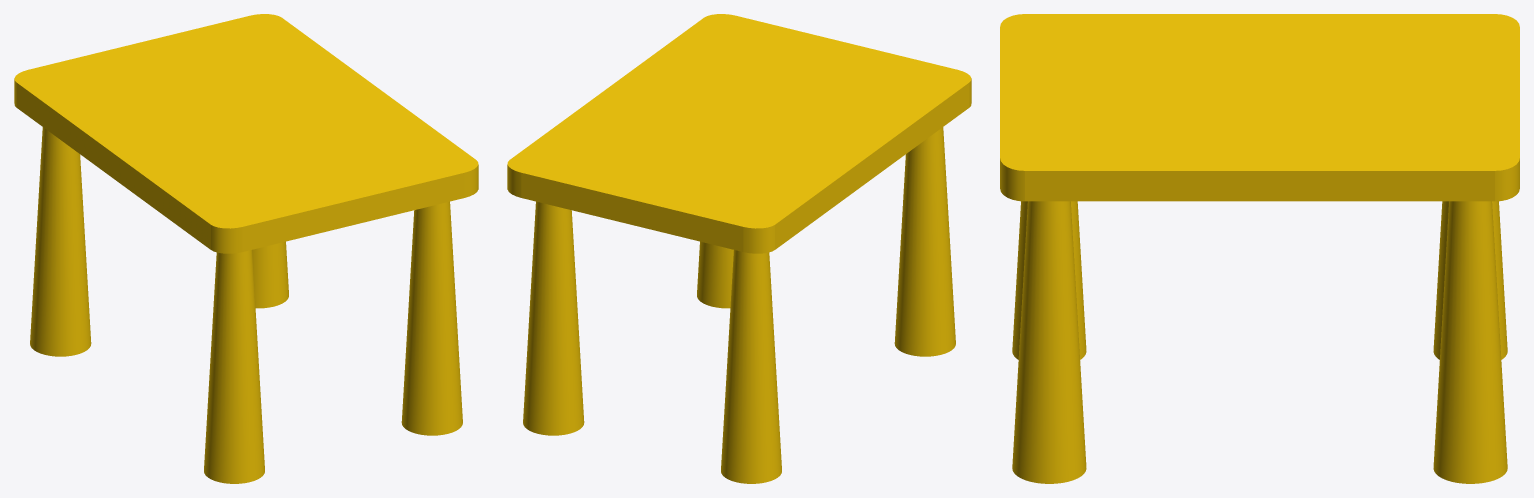
File: table_kids.fbx
3 views of the same model, side by side, from view 1: azimuth 30°, elevation 25°; view 2: azimuth 150°, elevation 25°; view 3: azimuth 270°, elevation 25° (orthographic). The views are drawn at different scales.
Visible parts, largest first — view 1: table_1; view 2: table_1; view 3: table_1.
Boxes of the visible parts, box(x1,y1,x2,y2) form: table_1: box(14, 14, 478, 483); table_1: box(507, 14, 971, 483); table_1: box(1000, 14, 1519, 483).
Bounding box in the file's own units: 5500 × 5188 × 7700.
Materials: 1 (1 with a texture image).
